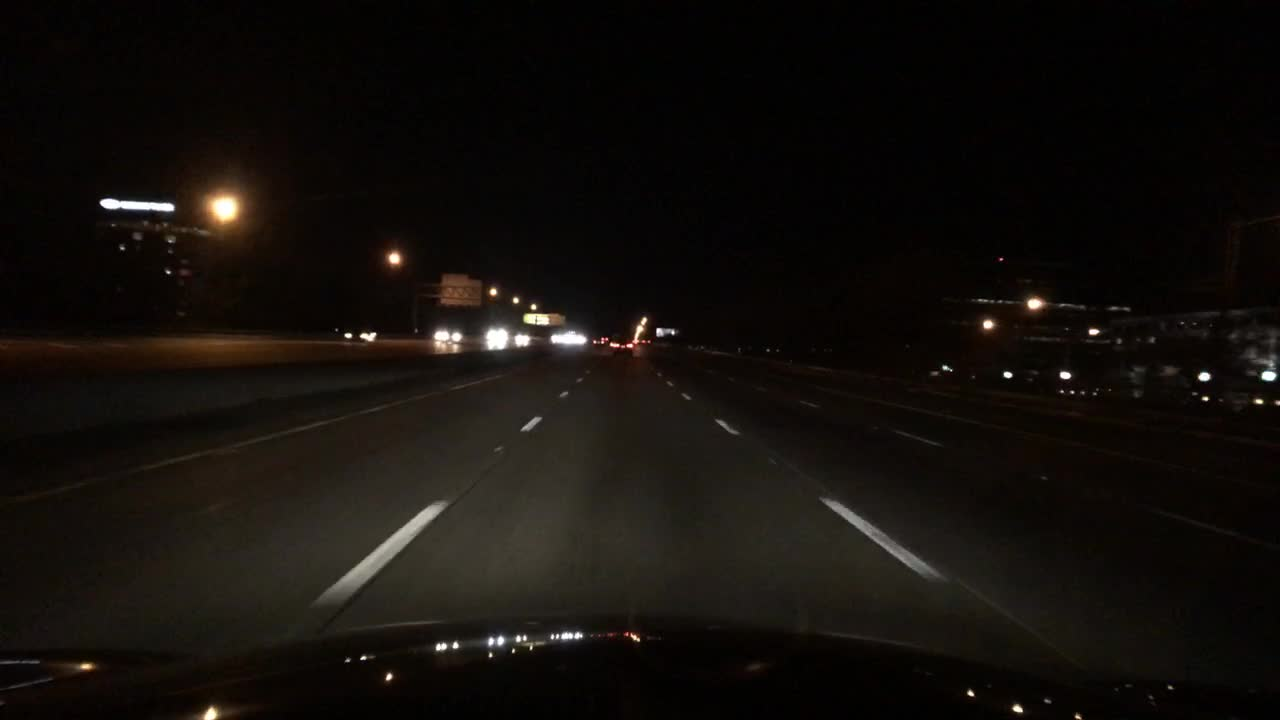car: (607, 335, 633, 356), (343, 329, 370, 344), (436, 330, 456, 344), (487, 333, 504, 347), (514, 335, 529, 350), (550, 338, 568, 347), (590, 335, 604, 346), (568, 338, 582, 348)
traffic sign: (441, 284, 481, 308), (442, 272, 466, 283)
